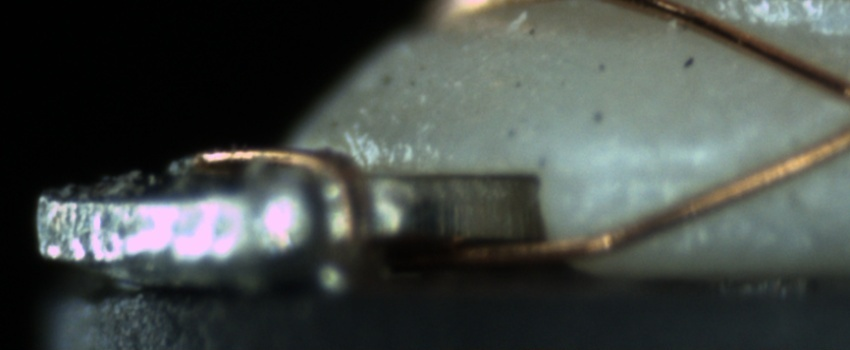DL: (574, 136, 729, 212)
TE: (190, 134, 379, 257)
